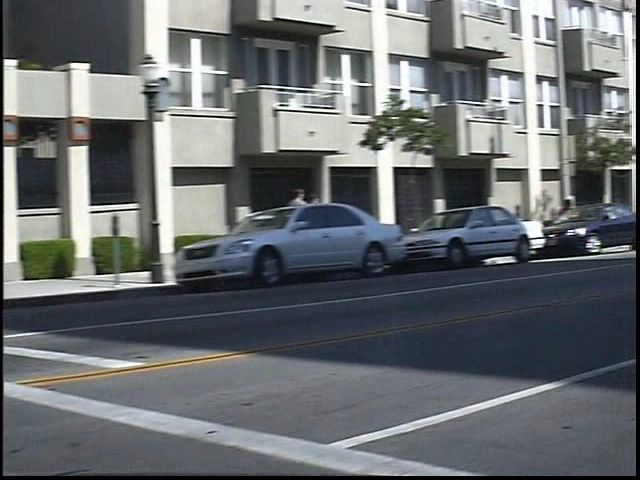person: (300, 182, 324, 260), (319, 190, 339, 252)
